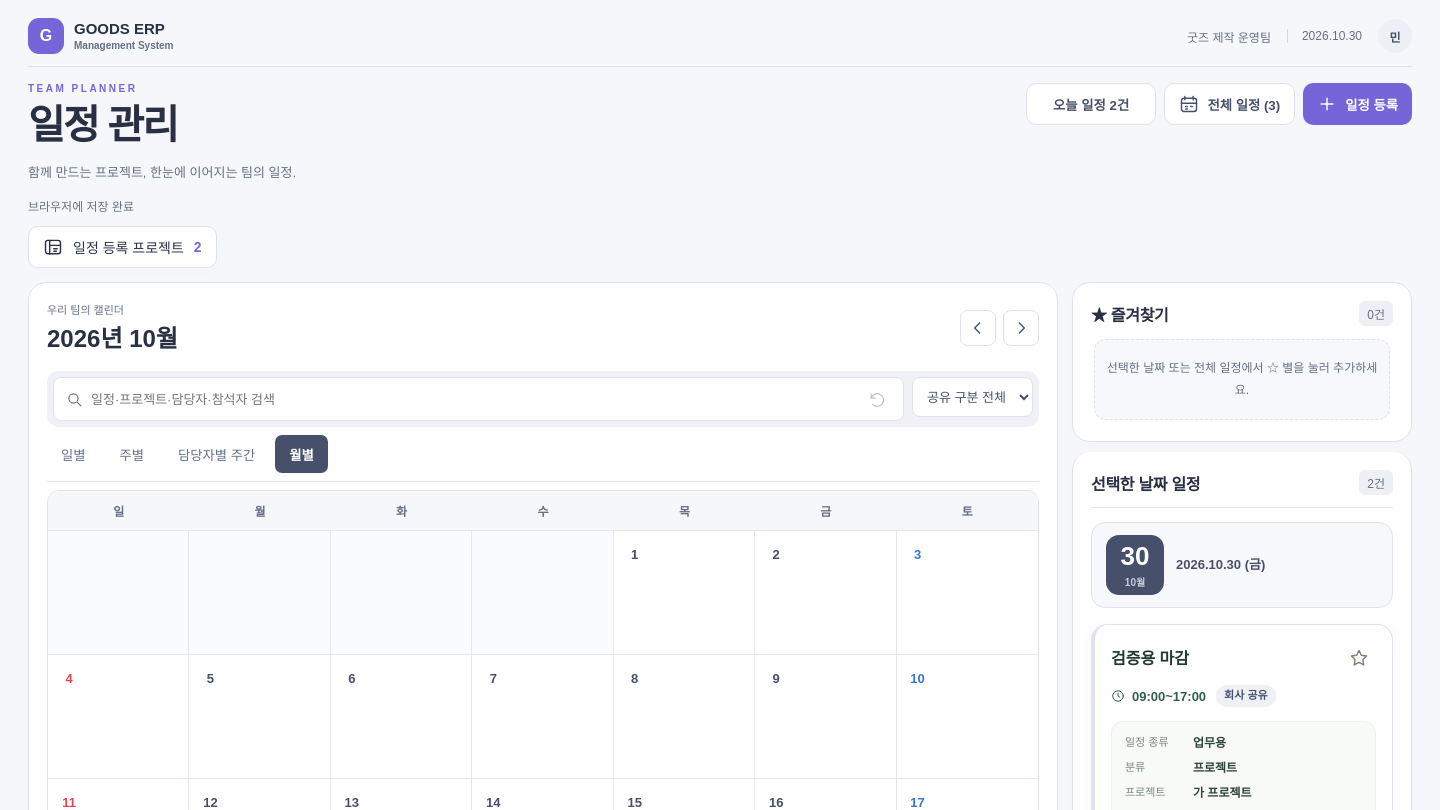
Scenario: 프로젝트 아이콘은 검색·기간과 무관하게 중복 없는 프로젝트 목록을 열고 닫는다
The width and height of the screenshot is (1440, 810).
Type "없는 검색" into the field named "일정 검색" at (473, 399), box [91, 378, 855, 420]
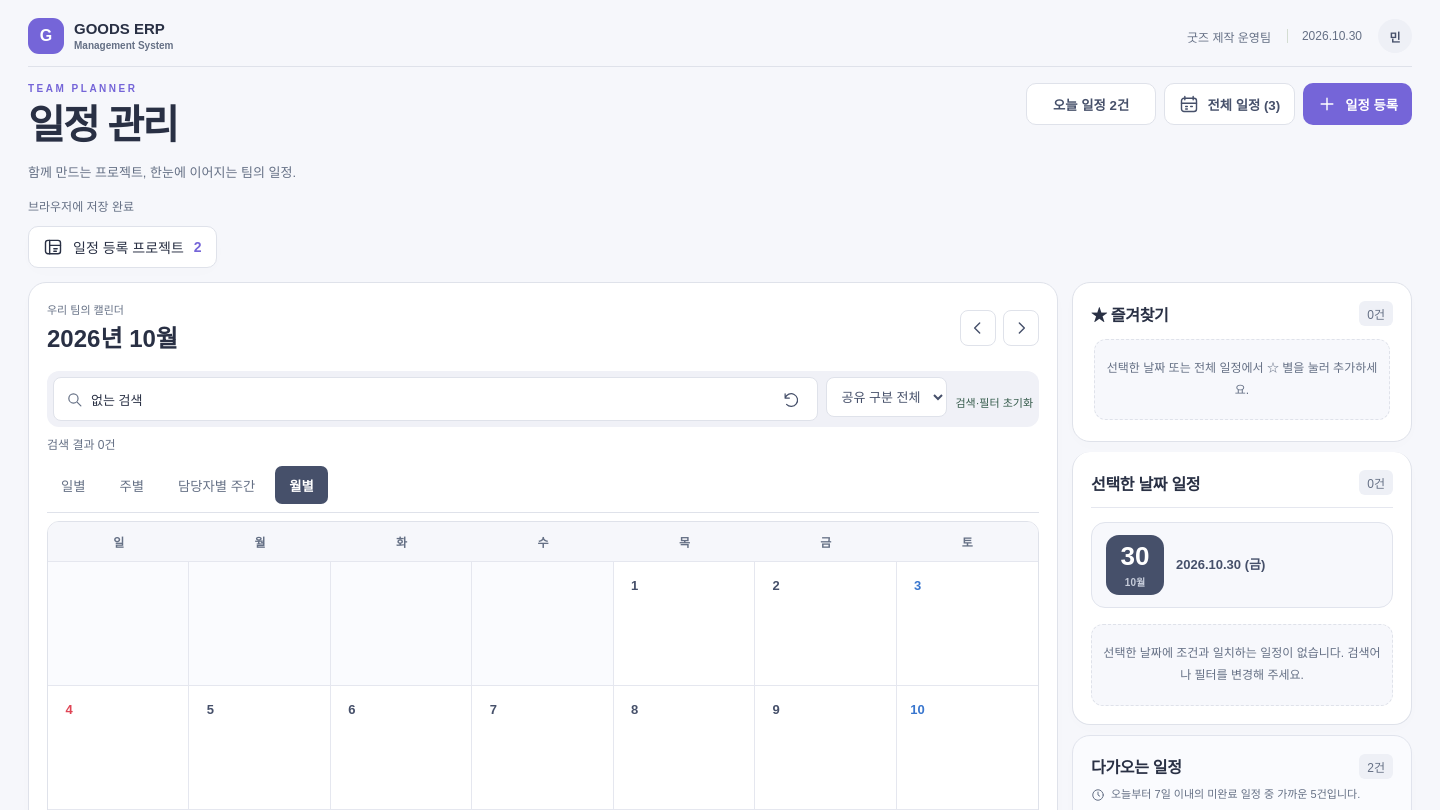
Click the button with aria-label "일정 등록 프로젝트 목록 보기" at (122, 247), box [28, 226, 217, 268]
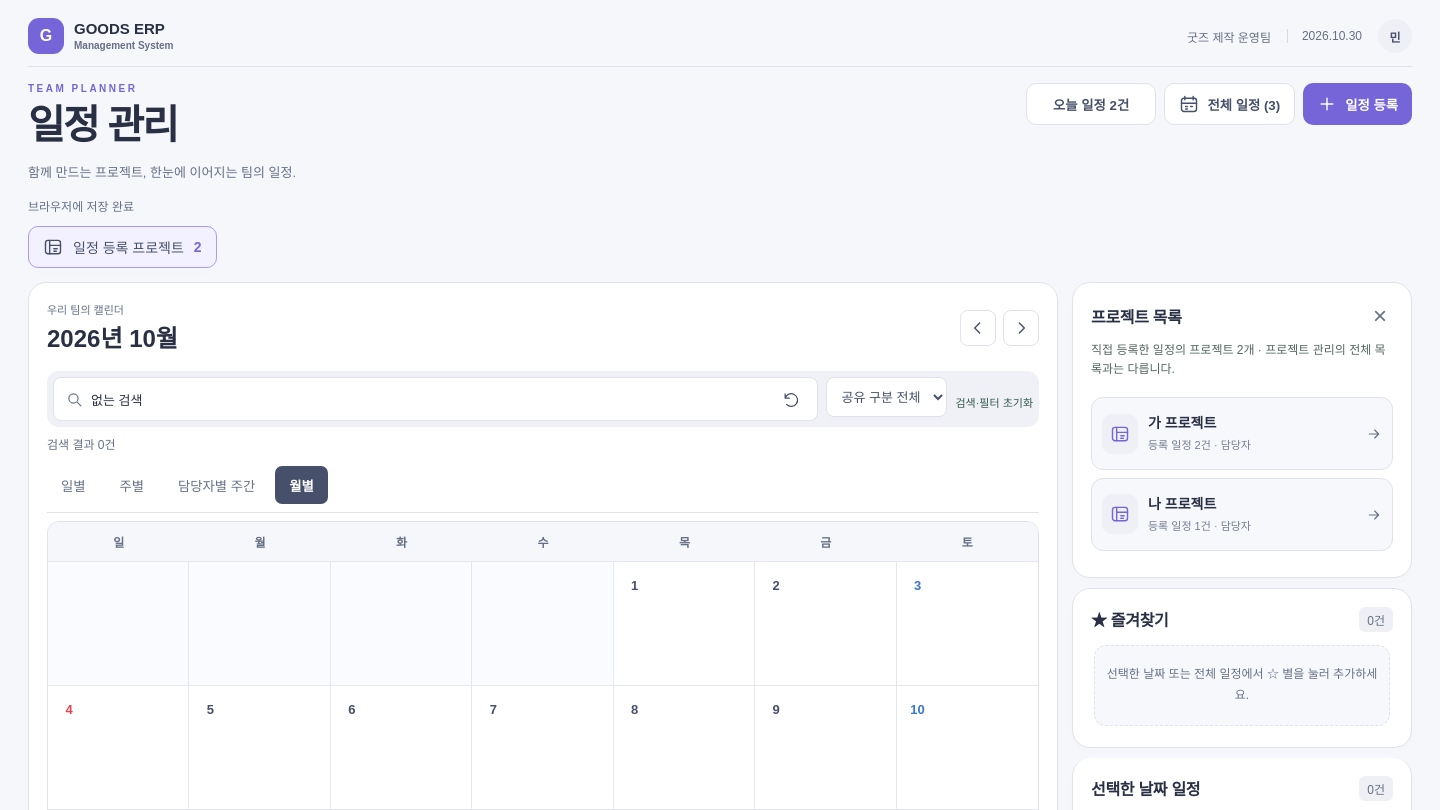
Now the number of list items is 2, box [1091, 397, 1393, 470]; [1091, 478, 1393, 551]
Now the text "나 프로젝트" is shown, box [1148, 496, 1216, 512]
Now the button with aria-label "일정 등록 프로젝트 목록 보기" is expanded, box [28, 226, 217, 268]
Click the button named "목록 닫기" at (1380, 316), box [1367, 301, 1393, 331]
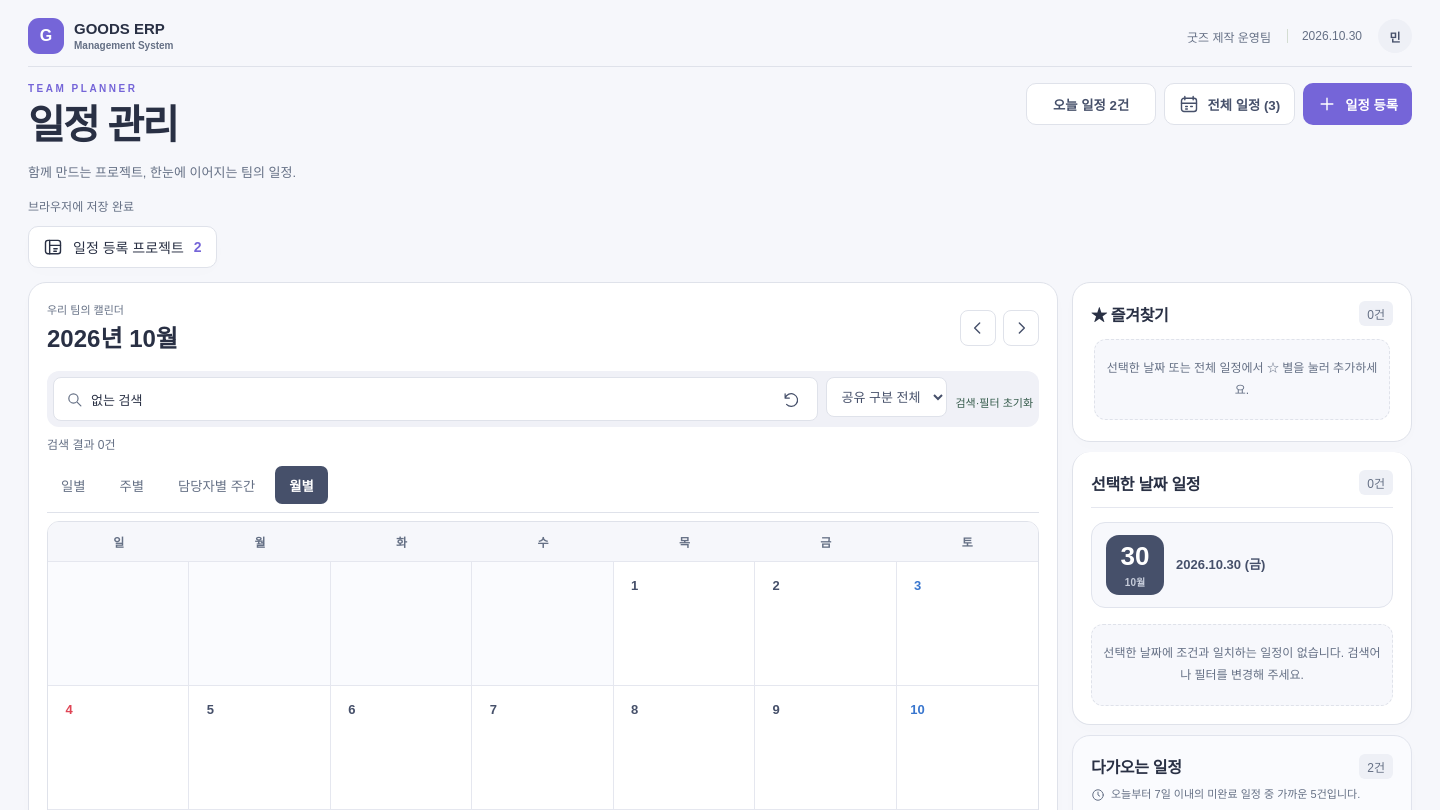
Now the heading "프로젝트 목록" is gone
